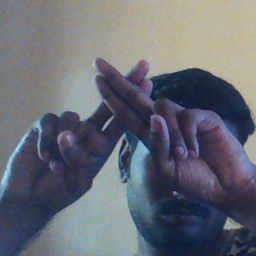F: (62, 53, 196, 175)
